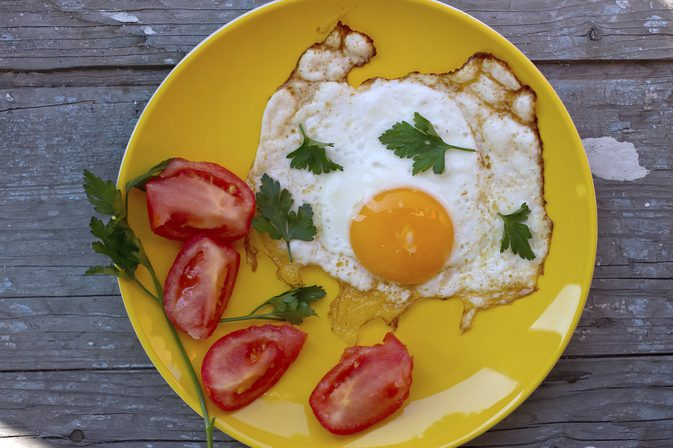fried egg: (261, 43, 555, 337)
